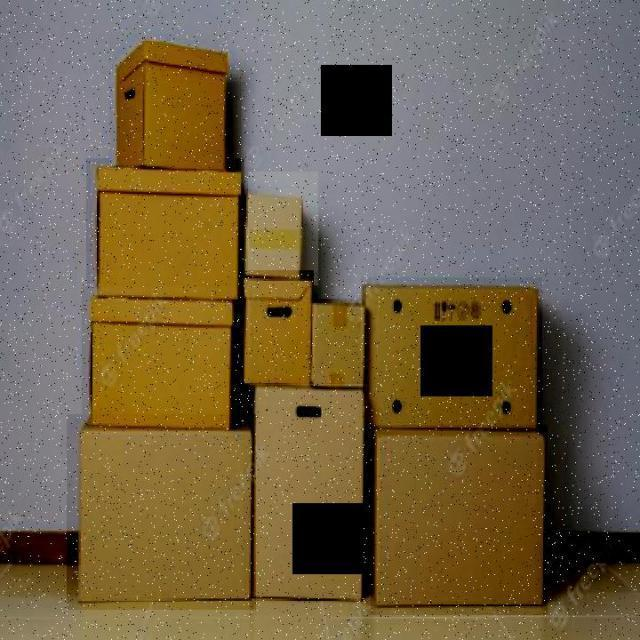box: (66, 414, 256, 610), (370, 425, 548, 615), (360, 277, 542, 441), (250, 384, 368, 599), (82, 287, 241, 435), (86, 158, 245, 302), (110, 34, 236, 169), (236, 270, 314, 393), (248, 172, 318, 286), (308, 298, 372, 384)
